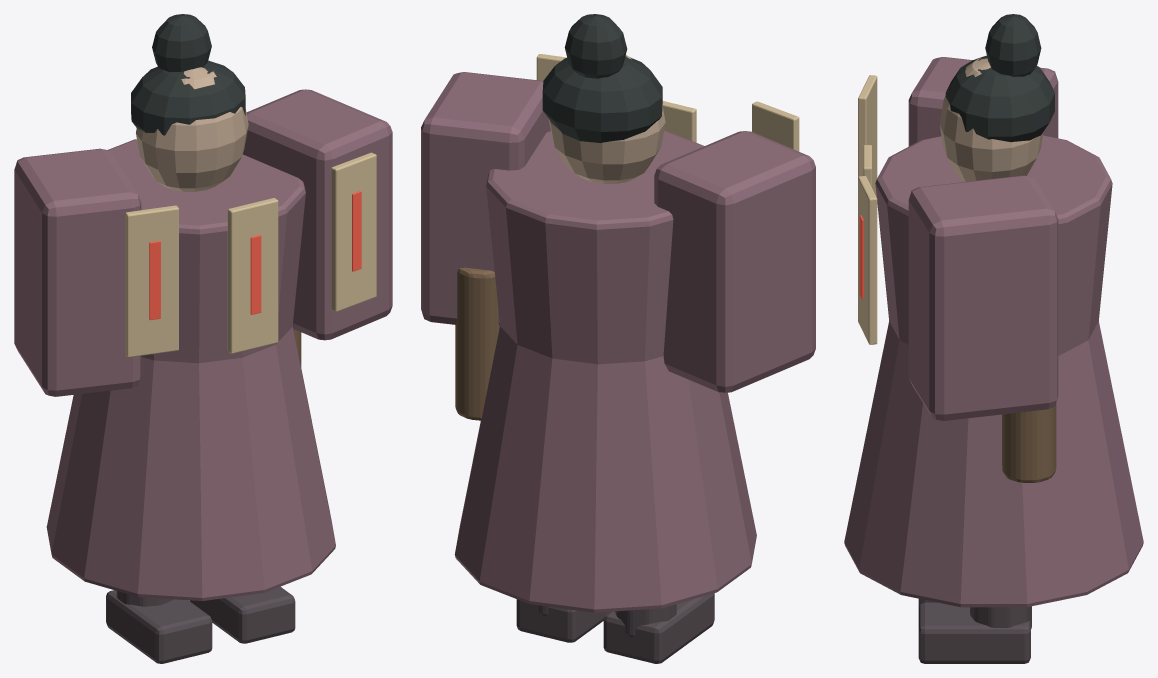
The model's file is chr_enemy_talisman_qi_a.glb.
The picture shows the model from 3 angles, left to right: view 1: azimuth 30°, elevation 25°; view 2: azimuth 150°, elevation 25°; view 3: azimuth 270°, elevation 25°; orthographic projection. The views are drawn at different scales.
Parts seen in each view (by area): view 1: talisman_robe_lower, talisman_sleeve_l, talisman_sleeve_r, talisman_torso, talisman_card_0, talisman_head, talisman_card_1, talisman_card_2, talisman_hair_cap, talisman_leg_l_boot, talisman_leg_r_boot, talisman_hair_bun (+3 smaller); view 2: talisman_robe_lower, talisman_sleeve_l, talisman_torso, talisman_sleeve_r, talisman_hair_cap, talisman_scroll_case, talisman_head, talisman_leg_l_boot, talisman_hair_bun, talisman_leg_r_boot, talisman_card_0, talisman_card_1 (+1 smaller); view 3: talisman_robe_lower, talisman_sleeve_r, talisman_torso, talisman_hair_cap, talisman_leg_r_boot, talisman_head, talisman_scroll_case, talisman_sleeve_l, talisman_hair_bun, talisman_card_2, talisman_card_0, talisman_leg_r.
Boxes of the visible parts, x1=… form: talisman_robe_lower: x1=46, y1=326, x2=335, y2=600; talisman_sleeve_l: x1=14, y1=148, x2=141, y2=396; talisman_sleeve_r: x1=243, y1=89, x2=392, y2=340; talisman_torso: x1=107, y1=139, x2=305, y2=363; talisman_card_0: x1=125, y1=205, x2=178, y2=357; talisman_head: x1=136, y1=67, x2=248, y2=191; talisman_card_1: x1=227, y1=198, x2=278, y2=353; talisman_card_2: x1=331, y1=152, x2=376, y2=311; talisman_hair_cap: x1=131, y1=60, x2=245, y2=135; talisman_leg_l_boot: x1=106, y1=590, x2=212, y2=663; talisman_leg_r_boot: x1=189, y1=586, x2=295, y2=643; talisman_hair_bun: x1=152, y1=14, x2=211, y2=71; talisman_robe_lower: x1=454, y1=326, x2=756, y2=612; talisman_sleeve_l: x1=654, y1=131, x2=815, y2=392; talisman_torso: x1=486, y1=130, x2=704, y2=364; talisman_sleeve_r: x1=421, y1=72, x2=550, y2=325; talisman_hair_cap: x1=542, y1=56, x2=662, y2=142; talisman_scroll_case: x1=455, y1=267, x2=499, y2=420; talisman_head: x1=548, y1=55, x2=665, y2=183; talisman_leg_l_boot: x1=603, y1=593, x2=714, y2=663; talisman_hair_bun: x1=564, y1=14, x2=627, y2=78; talisman_leg_r_boot: x1=516, y1=599, x2=608, y2=642; talisman_card_0: x1=752, y1=101, x2=799, y2=151; talisman_card_1: x1=662, y1=101, x2=696, y2=142; talisman_robe_lower: x1=844, y1=321, x2=1143, y2=607; talisman_sleeve_r: x1=908, y1=175, x2=1058, y2=420; talisman_torso: x1=875, y1=135, x2=1112, y2=355; talisman_hair_cap: x1=945, y1=55, x2=1054, y2=142; talisman_leg_r_boot: x1=918, y1=602, x2=1030, y2=663; talisman_head: x1=939, y1=58, x2=1043, y2=181; talisman_scroll_case: x1=1002, y1=403, x2=1056, y2=482; talisman_sleeve_l: x1=908, y1=57, x2=1058, y2=146; talisman_hair_bun: x1=985, y1=14, x2=1041, y2=76; talisman_card_2: x1=858, y1=176, x2=877, y2=344; talisman_card_0: x1=858, y1=75, x2=877, y2=196; talisman_leg_r: x1=970, y1=606, x2=1031, y2=628.
Bounding box in the file's own units: 1.17 × 1.93 × 0.8542.
